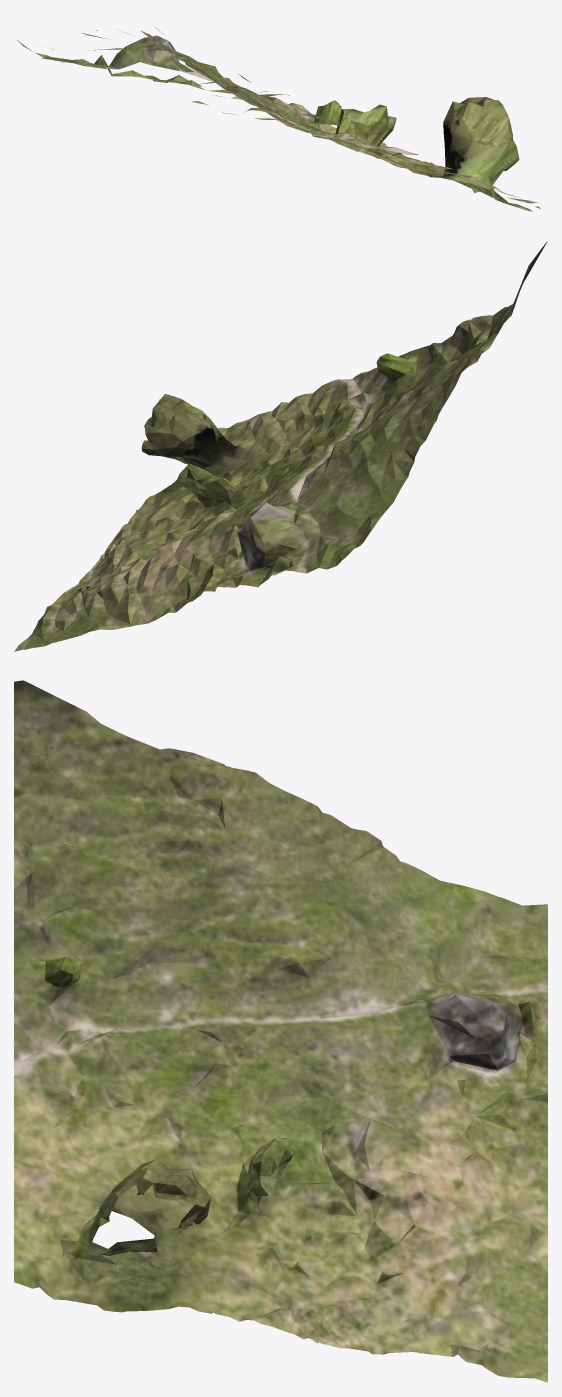
The picture shows the model from 3 angles, top to bottom: view 1: azimuth 30°, elevation 25°; view 2: azimuth 150°, elevation 25°; view 3: azimuth 270°, elevation 25°; orthographic projection. The views are drawn at different scales.
Bounding box in the file's own units: 26.11 × 25.72 × 26.11.
Materials: 4 (4 with a texture image).
